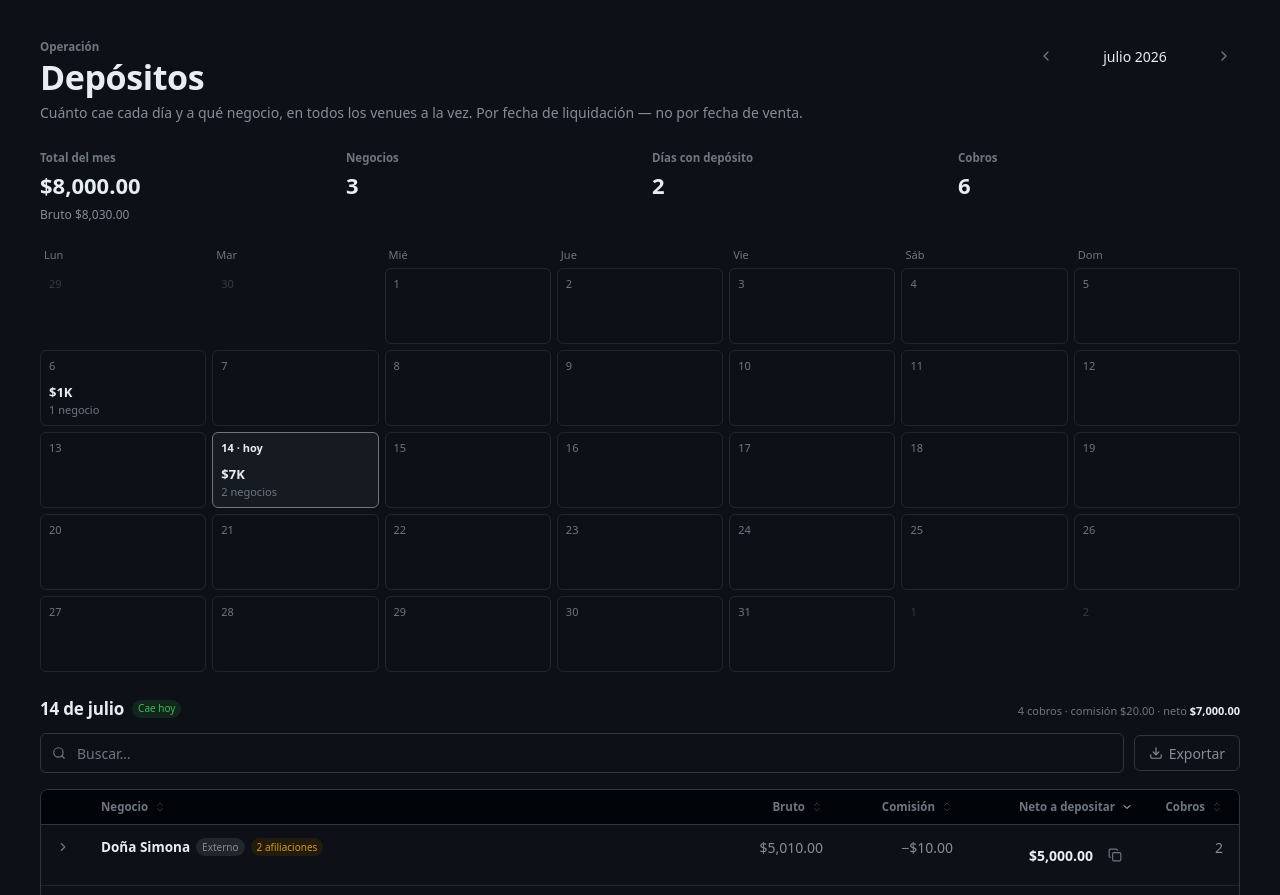
Test case: SettlementCalendarPage › cambia el desglose al picarle a otro día
Expected: the heading "14 de julio" is shown, top-left (40, 696), bottom-right (124, 721)
What coordinates should you click on to do the following:
click the button with aria-label "6 de julio: $1,000.00 de 1 negocio"
I would click on:
 (123, 388)
Its box is top-left (40, 350), bottom-right (206, 426).
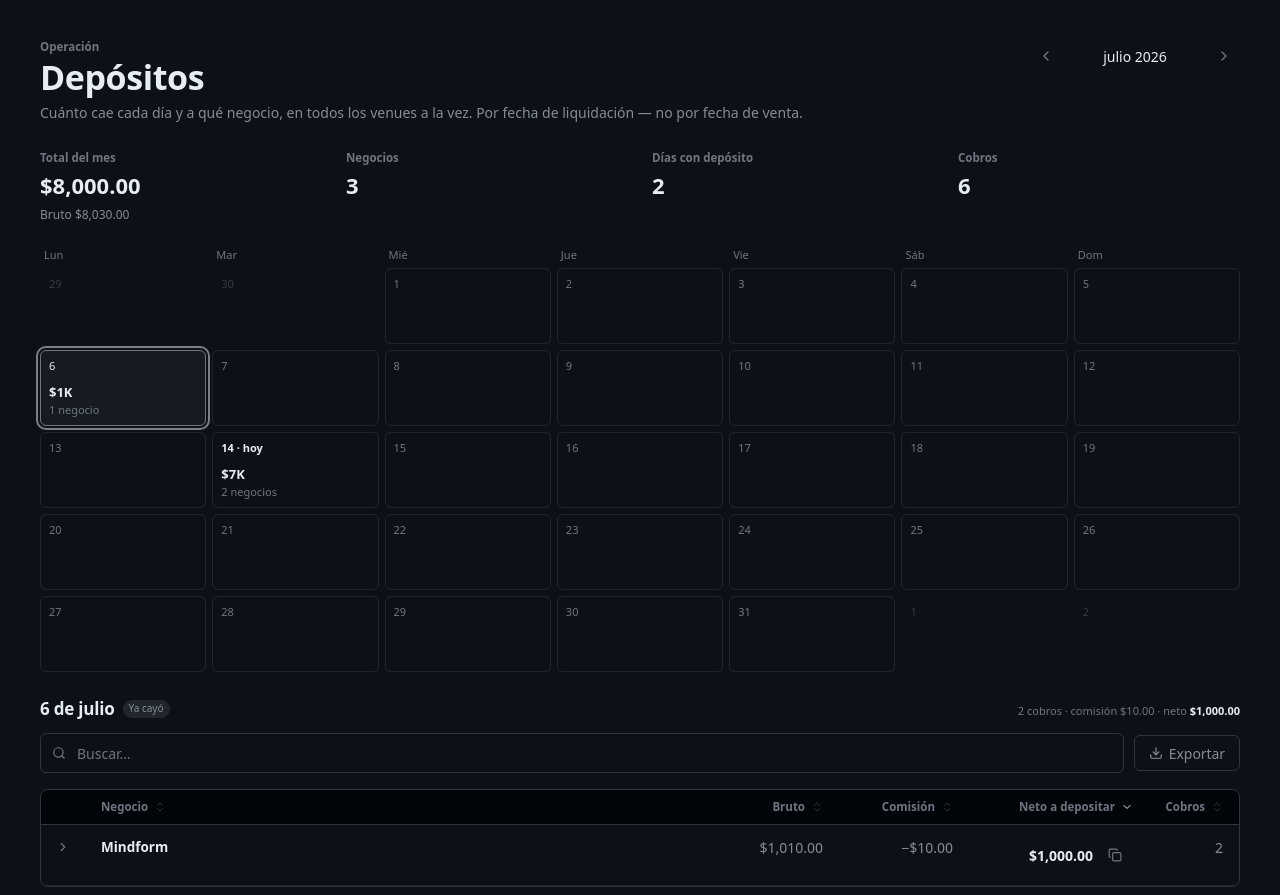
Result: the heading "6 de julio" is shown at top-left (40, 696), bottom-right (115, 721)
Result: the text "Mindform" is shown at top-left (101, 837), bottom-right (168, 858)
Result: the text "Ya cayó" is shown at top-left (123, 700), bottom-right (170, 718)
